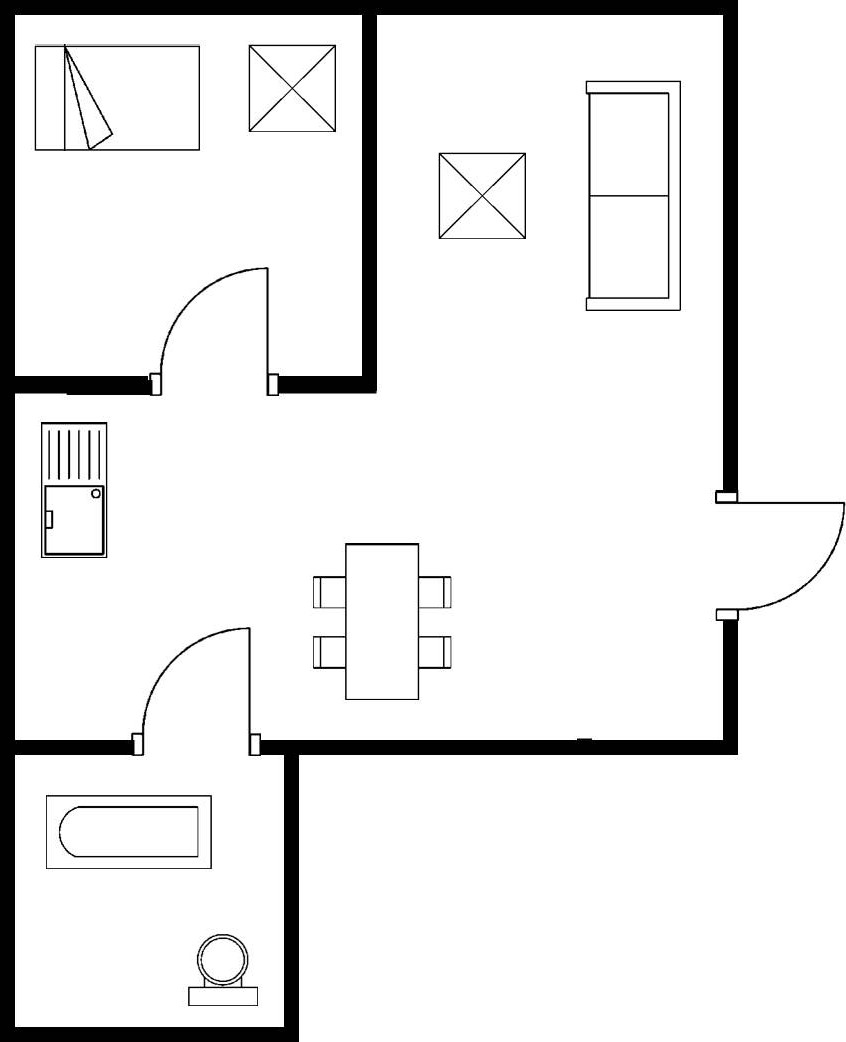bed: (27, 39, 206, 157)
coffee_table: (431, 145, 534, 248), (240, 37, 341, 141)
dining_table: (306, 537, 457, 707)
large_sink: (183, 928, 263, 1013)
large_sofa: (581, 73, 689, 321)
sink: (35, 416, 115, 565)
tub: (39, 790, 219, 880)
